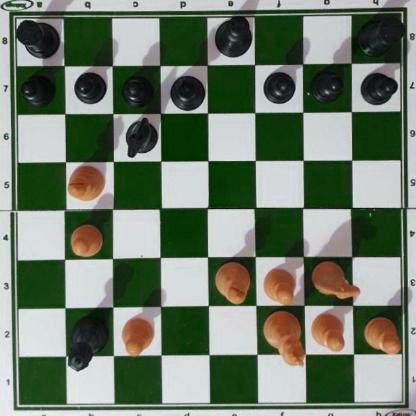black-bishop: (167, 75, 206, 112)
black-king: (212, 15, 253, 58)
black-knight: (123, 115, 158, 158)
black-pawn: (360, 69, 396, 105), (310, 68, 344, 102), (262, 68, 295, 103), (20, 71, 54, 104), (73, 70, 105, 104), (121, 72, 153, 106)
black-queen: (65, 313, 108, 372)
black-rook: (13, 15, 60, 58), (358, 14, 404, 55)
white-bishop: (214, 261, 251, 306), (65, 164, 106, 202)
white-king: (263, 310, 305, 367)
white-knight: (313, 260, 361, 301)
white-pawn: (310, 312, 347, 354), (363, 315, 400, 353), (261, 265, 297, 302), (119, 316, 154, 354), (69, 224, 103, 256)
